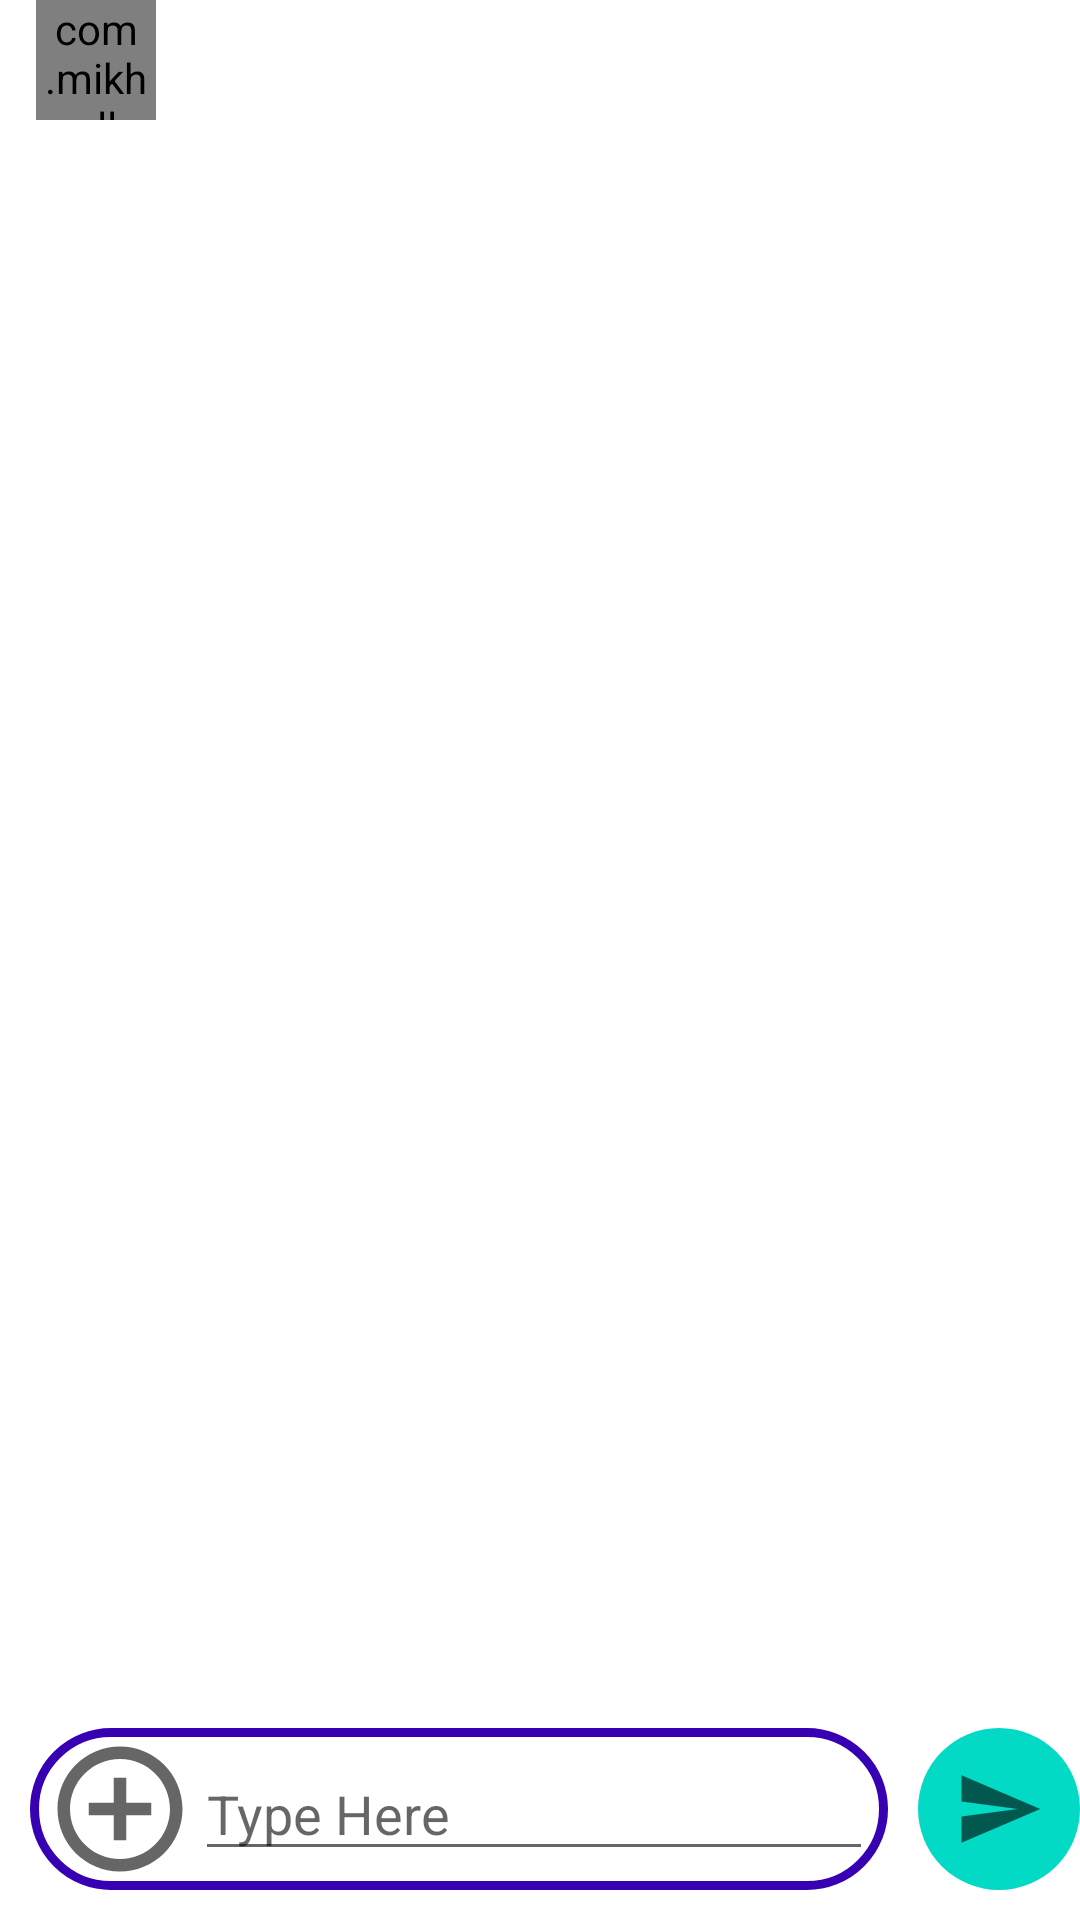

Icon click points for this 1080w x 1920h phone screenshot, format (x,y):
add circle: (120,1809)
send: (1000,1809)
